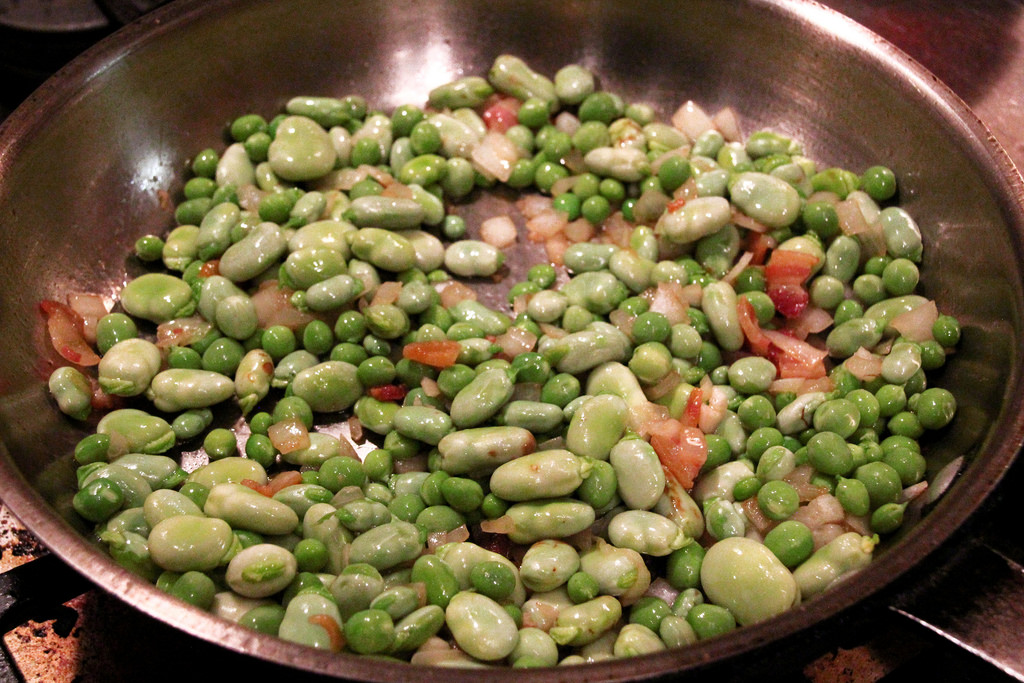boiled peas: (188, 156, 875, 556)
